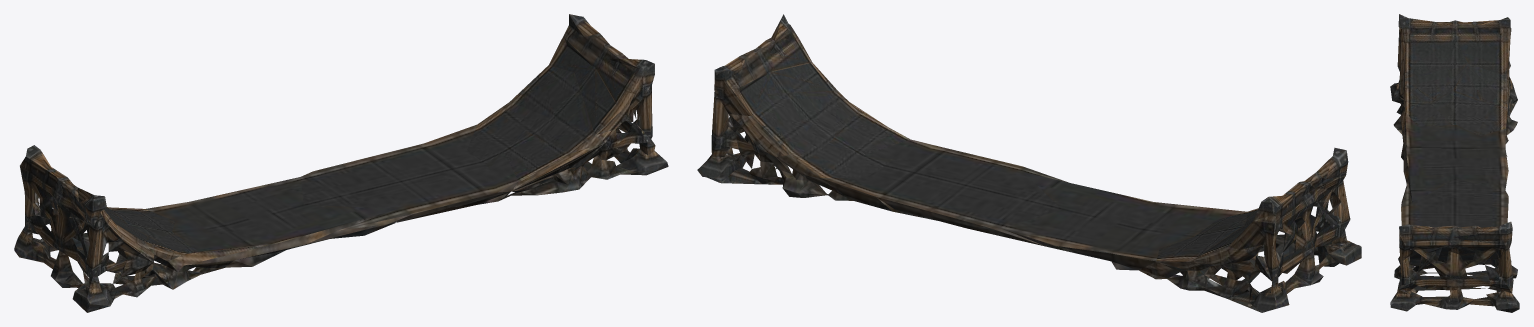
Rendered from stunt-half-pipe.lod.glb.
The picture shows the model from 3 angles, left to right: view 1: azimuth 30°, elevation 25°; view 2: azimuth 150°, elevation 25°; view 3: azimuth 270°, elevation 25°; orthographic projection. The views are drawn at different scales.
Parts seen in each view (by area): view 1: output_unwrapped; view 2: output_unwrapped; view 3: output_unwrapped.
Part boxes in pixels (box(x1,y1,x2,y2)): output_unwrapped: box(14, 14, 668, 312); output_unwrapped: box(697, 14, 1361, 312); output_unwrapped: box(1390, 14, 1519, 312).
Size of the model in its own units: 1.89 by 0.3469 by 0.4739.
1 material, 1 textured.
